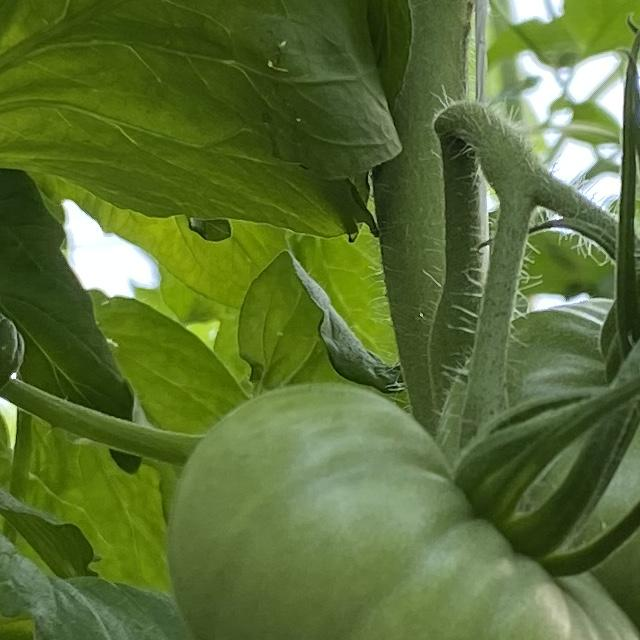tomato: (98, 54, 640, 640)
